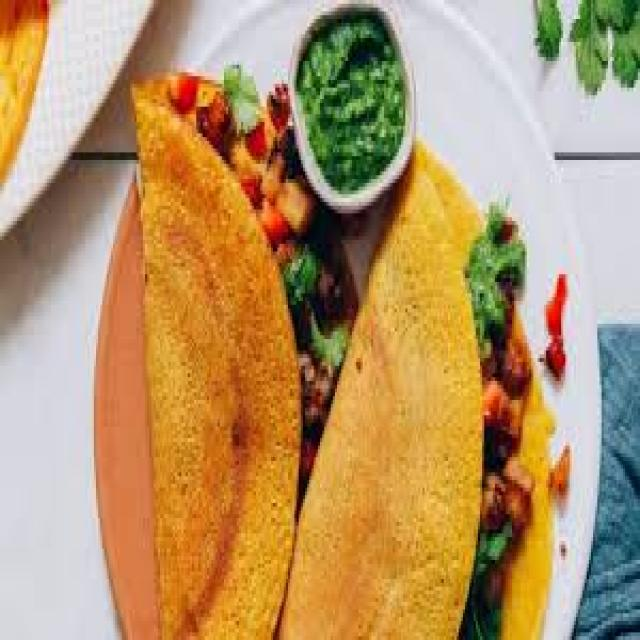DOSA: (279, 145, 480, 636), (137, 76, 299, 636)
